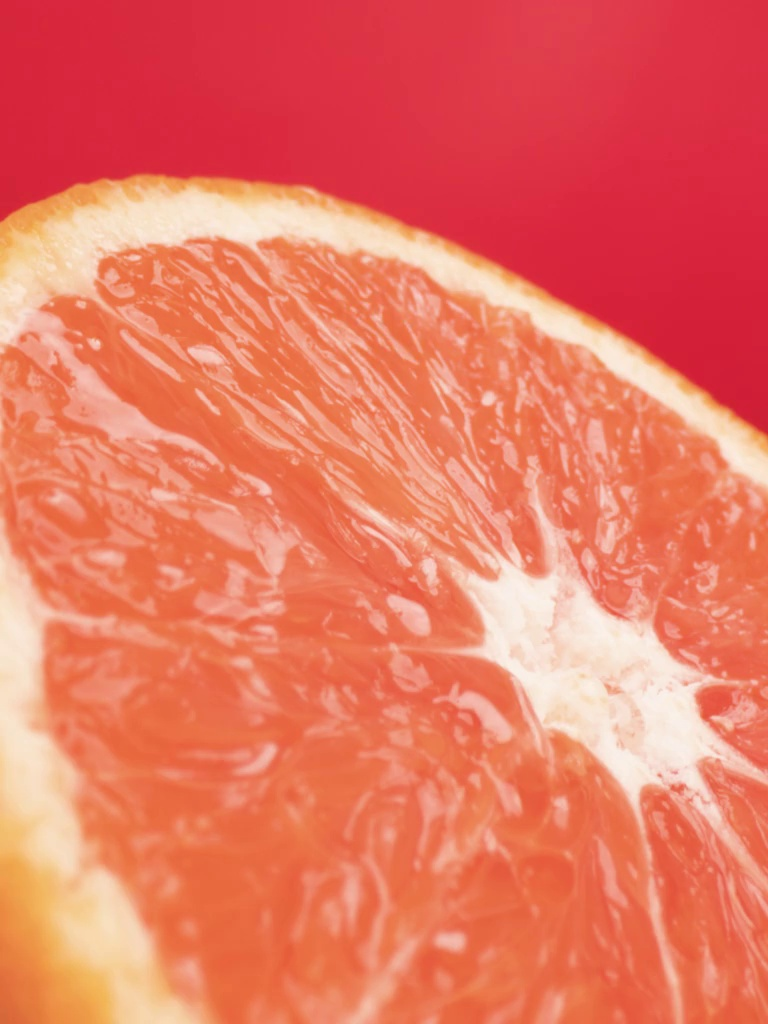Orange: (2, 142, 768, 1024)
